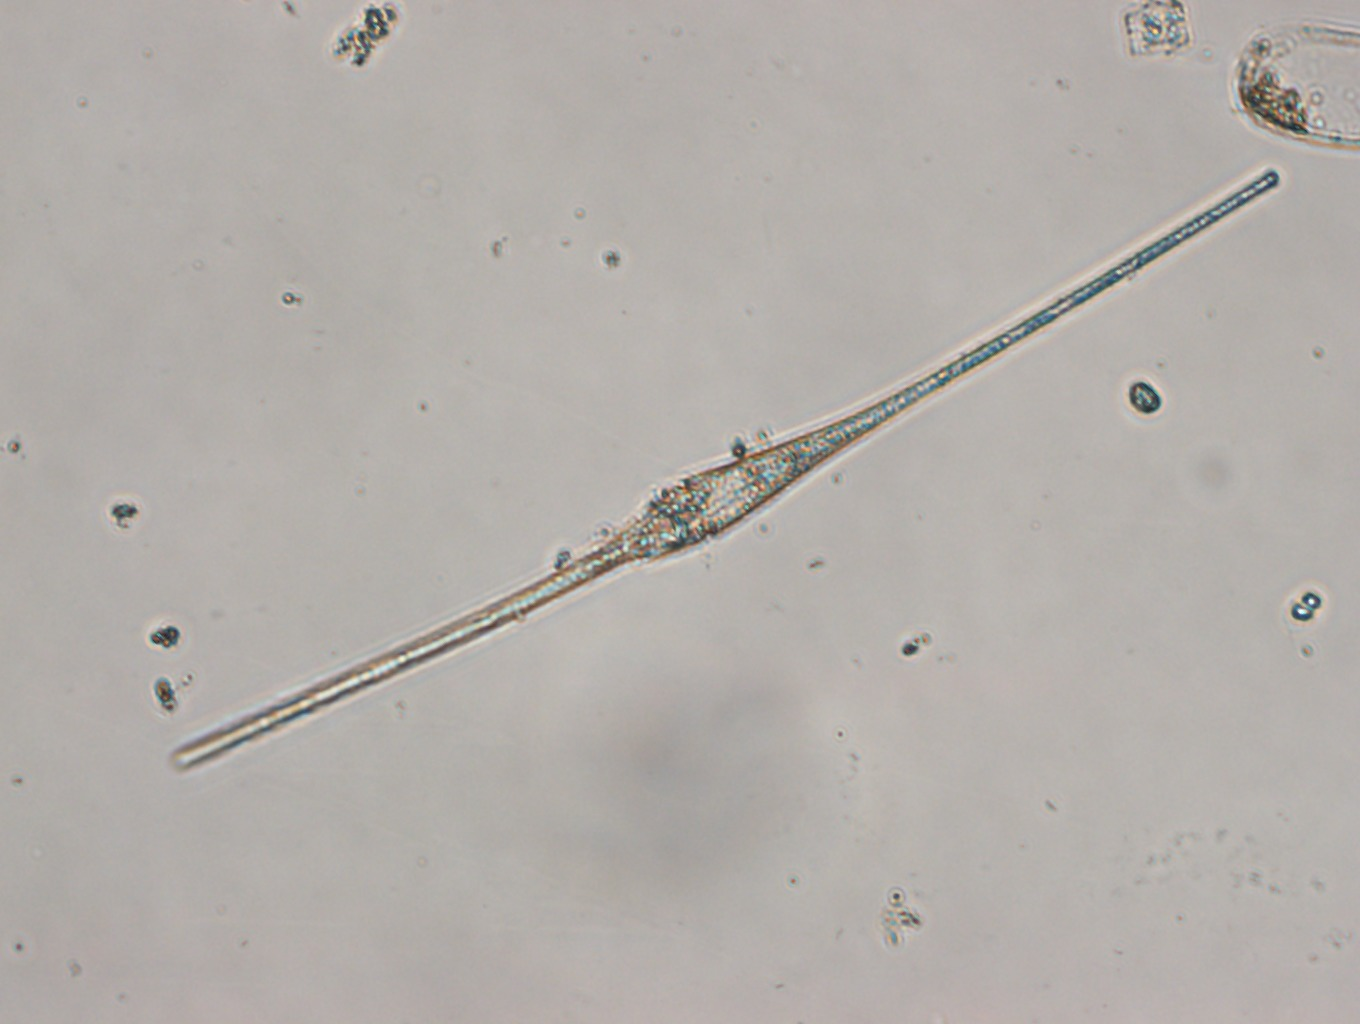ceratium fusus: (164, 166, 1284, 772)
